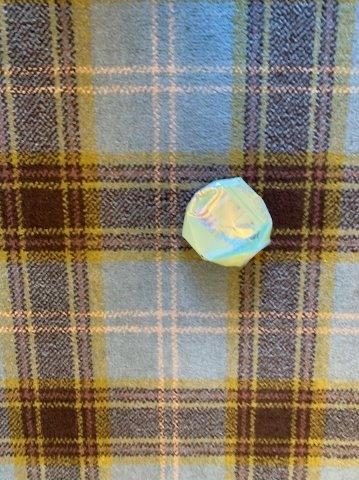kaleng: (182, 177, 273, 267)
